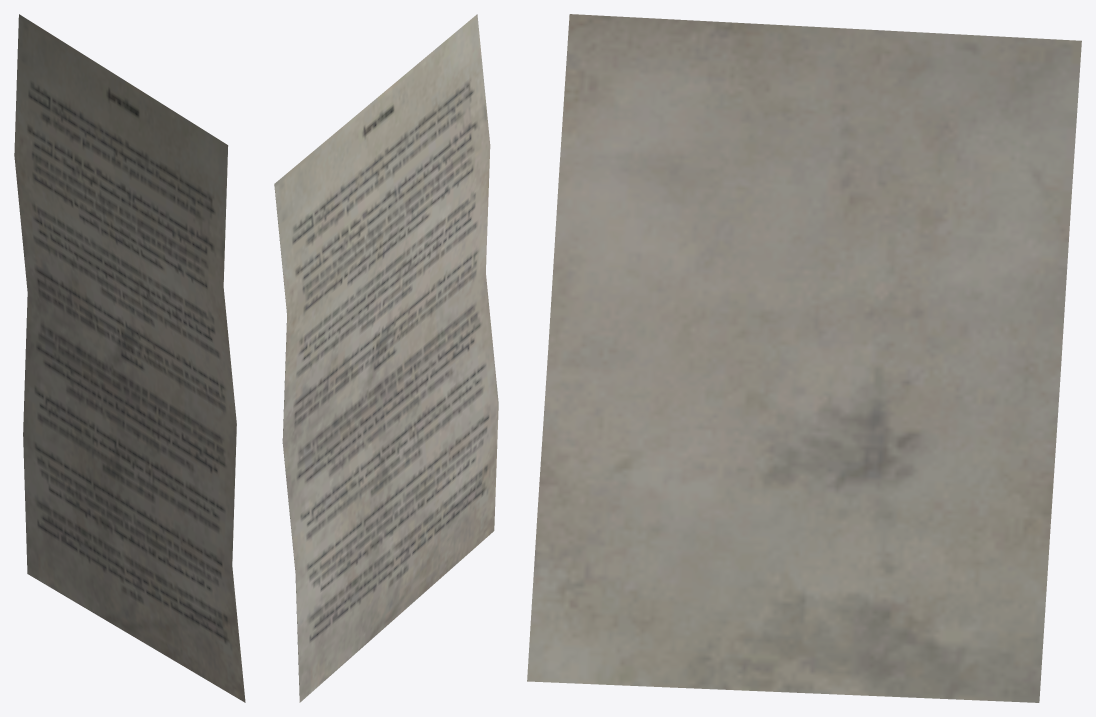
The model's file is Paper_B_mo_003.fbx.
3 renders of one model, left to right at view 1: azimuth 30°, elevation 25°; view 2: azimuth 150°, elevation 25°; view 3: azimuth 270°, elevation 25°, orthographic. The views are drawn at different scales.
Parts seen in each view (by area): view 1: Paper_B.mo.003; view 2: Paper_B.mo.003; view 3: Paper_B.mo.003.
Part boxes in pixels (x1=…): Paper_B.mo.003: x1=14, y1=14, x2=245, y2=702; Paper_B.mo.003: x1=274, y1=14, x2=498, y2=702; Paper_B.mo.003: x1=527, y1=14, x2=1081, y2=702.
Bounding box in the file's own units: 0.7633 × 46.11 × 33.39.
